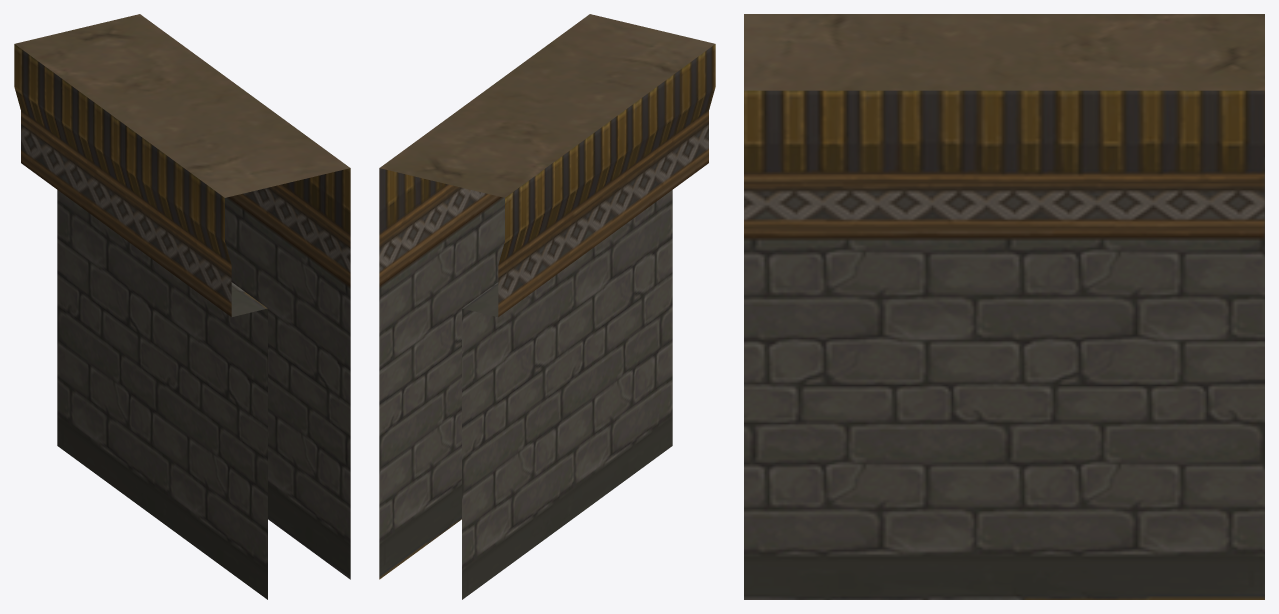
File: Battle06_Wall_03.FBX
3 renders of one model, left to right at view 1: azimuth 30°, elevation 25°; view 2: azimuth 150°, elevation 25°; view 3: azimuth 270°, elevation 25°, orthographic. The views are drawn at different scales.
Parts seen in each view (by area): view 1: Battle06_Wall_03; view 2: Battle06_Wall_03; view 3: Battle06_Wall_03.
Part boxes in pixels (x1,y1,x2,y2): Battle06_Wall_03: (14,14,350,599); Battle06_Wall_03: (379,14,715,599); Battle06_Wall_03: (744,14,1264,599).
Size of the model in its own units: 2.96 by 9.28 by 8.59.
